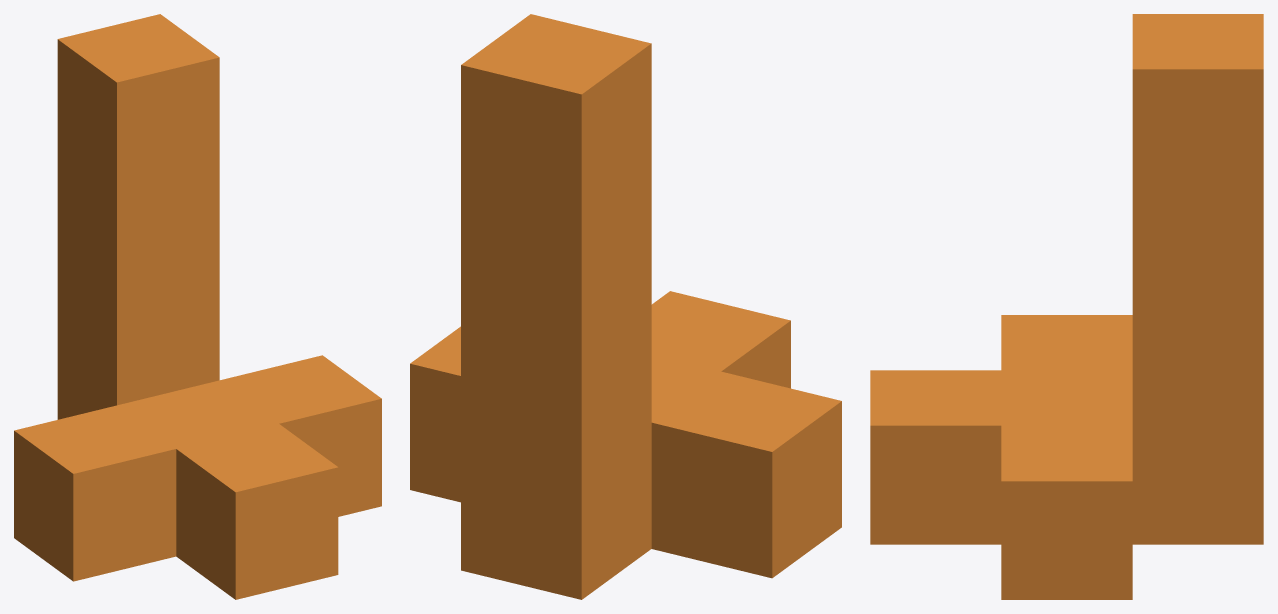
The model's file is seagull__leg_r.glb.
3 renders of one model, left to right at view 1: azimuth 30°, elevation 25°; view 2: azimuth 150°, elevation 25°; view 3: azimuth 270°, elevation 25°, orthographic. The views are drawn at different scales.
Parts seen in each view (by area): view 1: seagull__leg_r; view 2: seagull__leg_r; view 3: seagull__leg_r.
Part boxes in pixels (<box>): seagull__leg_r: <box>14,14,381,599</box>; seagull__leg_r: <box>410,14,841,599</box>; seagull__leg_r: <box>870,14,1263,599</box>.
Bounding box in the file's own units: 0.3 × 0.4 × 0.3.
Materials: 1 (1 with a texture image).
